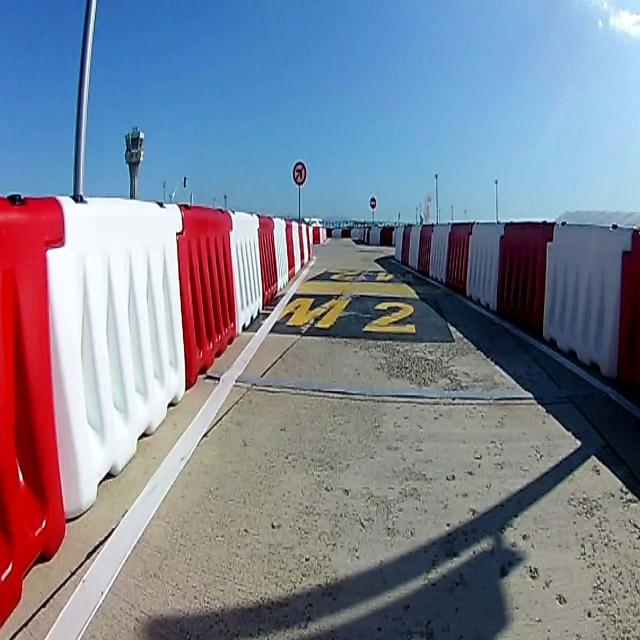girisyok: (369, 196, 376, 209)
soladonulmez: (292, 161, 306, 186)
